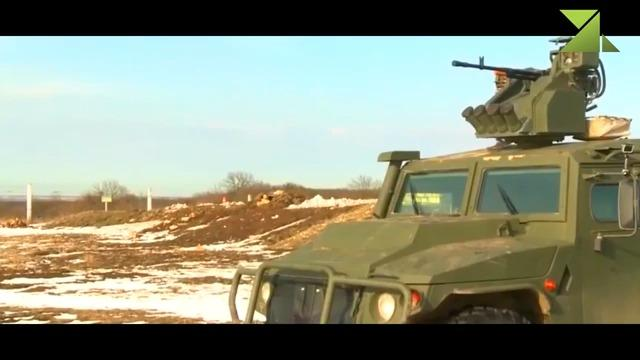MIL_HMMWV: (227, 137, 640, 325)
